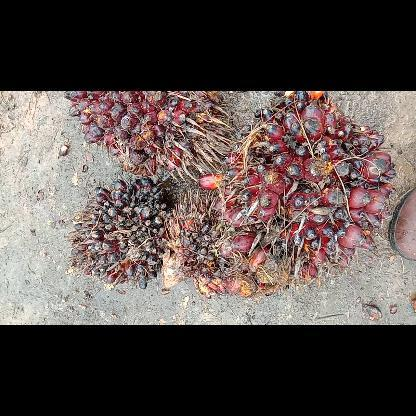Kurang masak: (198, 90, 396, 286)
TBS abnormal: (67, 176, 175, 288), (161, 188, 255, 298)
TBS masak: (64, 90, 231, 182)
